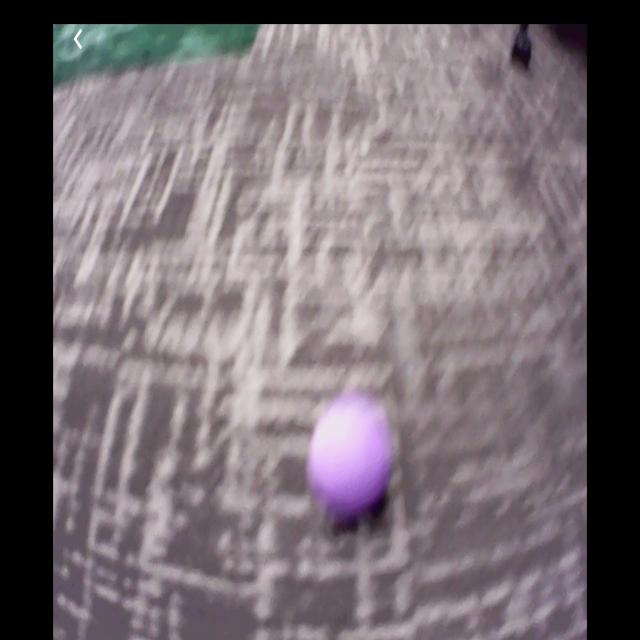ball: (311, 400, 390, 511)
